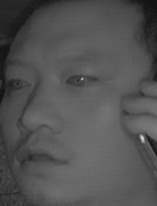eye: (64, 70, 99, 90), (6, 75, 36, 93)
mouth: (10, 140, 70, 177)
